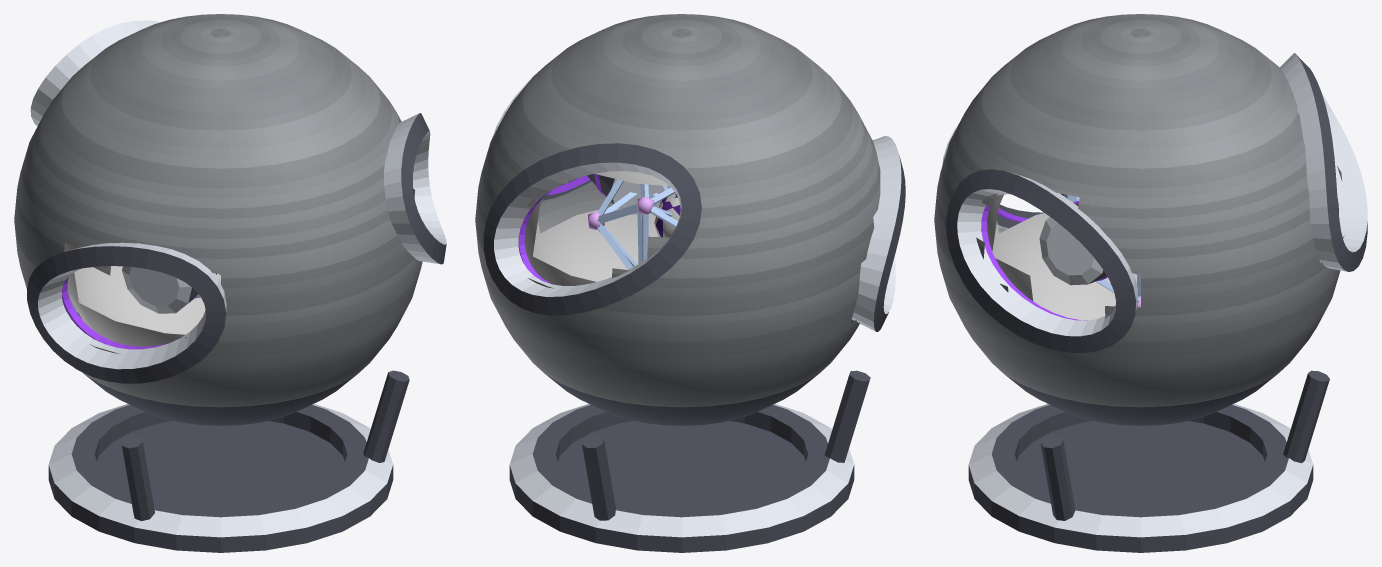
Rendered from twins_drone_dock.obj.
3 views of the same model, side by side, from view 1: azimuth 30°, elevation 25°; view 2: azimuth 150°, elevation 25°; view 3: azimuth 270°, elevation 25° (orthographic).
Visible parts, largest first — view 1: body, fx; view 2: body, core, fx; view 3: body, fx.
Part boxes in pixels (x1,y1,x2,y2): body: (14, 14, 446, 552); fx: (61, 277, 198, 349); body: (475, 14, 905, 552); core: (588, 179, 680, 269); fx: (518, 173, 605, 284); body: (934, 14, 1367, 552); fx: (981, 196, 1107, 320).
Bounding box in the file's own units: 0.7901 × 0.86 × 0.755.
